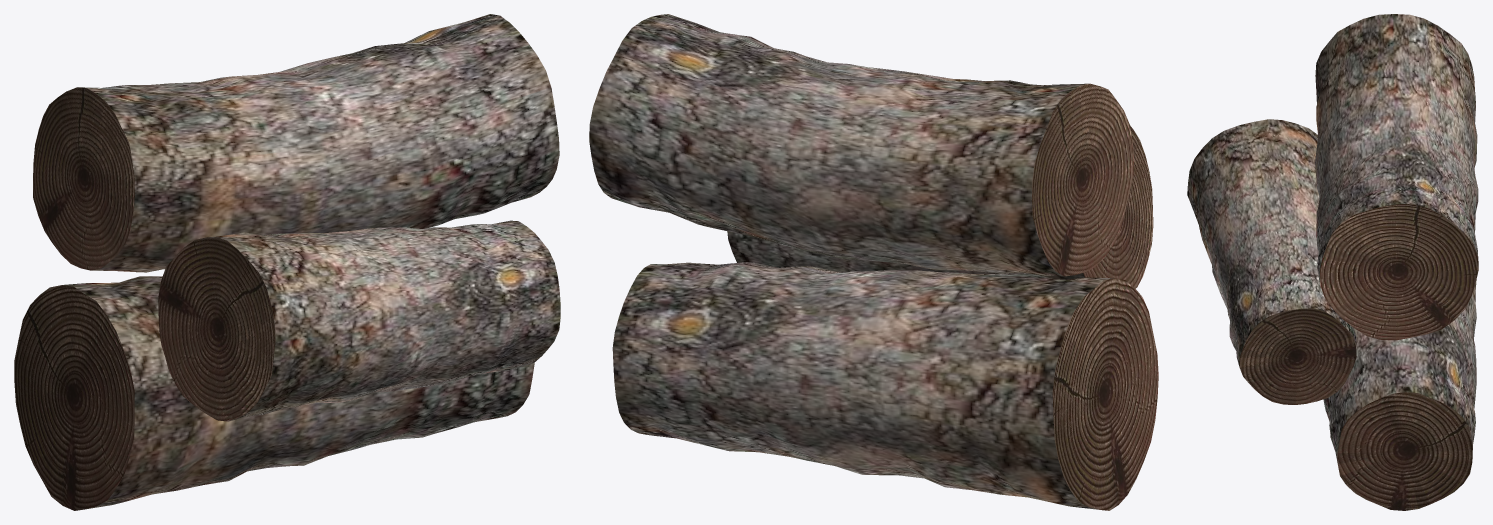
Rendered from firewood.obj.
3 views of the same model, side by side, from view 1: azimuth 30°, elevation 25°; view 2: azimuth 150°, elevation 25°; view 3: azimuth 270°, elevation 25° (orthographic). The views are drawn at different scales.
Parts seen in each view (by area): view 1: Cylinder02, Cylinder03, Cylinder01; view 2: Cylinder01, Cylinder02, Cylinder03; view 3: Cylinder02, Cylinder03, Cylinder01.
Boxes of the visible parts, box(x1,y1,x2,y2) form: Cylinder02: box(33, 14, 559, 272); Cylinder03: box(158, 220, 560, 421); Cylinder01: box(14, 276, 534, 510); Cylinder01: box(612, 262, 1158, 510); Cylinder02: box(589, 14, 1134, 276); Cylinder03: box(727, 125, 1153, 288); Cylinder02: box(1315, 14, 1478, 340); Cylinder03: box(1187, 119, 1356, 404); Cylinder01: box(1323, 280, 1476, 510).
Bounding box in the file's own units: 595 × 519 × 401.
